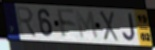6: (37, 8, 54, 39)
F: (55, 7, 77, 40)
J: (121, 12, 137, 43)
M: (74, 10, 100, 42)
R: (14, 5, 39, 39)
X: (98, 10, 120, 43)
